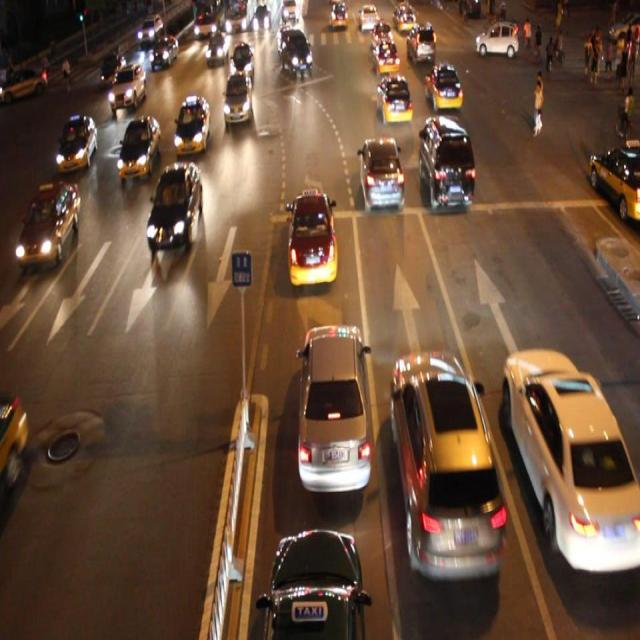car: (502, 349, 640, 575), (390, 352, 504, 582), (298, 324, 370, 494), (262, 530, 365, 640), (18, 178, 80, 268), (418, 119, 473, 208), (148, 164, 202, 253), (286, 190, 336, 286), (586, 138, 640, 222), (358, 136, 403, 212), (118, 117, 160, 177), (59, 116, 96, 170), (374, 74, 412, 125), (176, 96, 208, 154), (425, 62, 462, 111), (110, 65, 145, 109), (223, 73, 252, 124), (279, 31, 311, 74), (98, 51, 126, 86), (229, 43, 253, 79), (372, 41, 398, 72)
